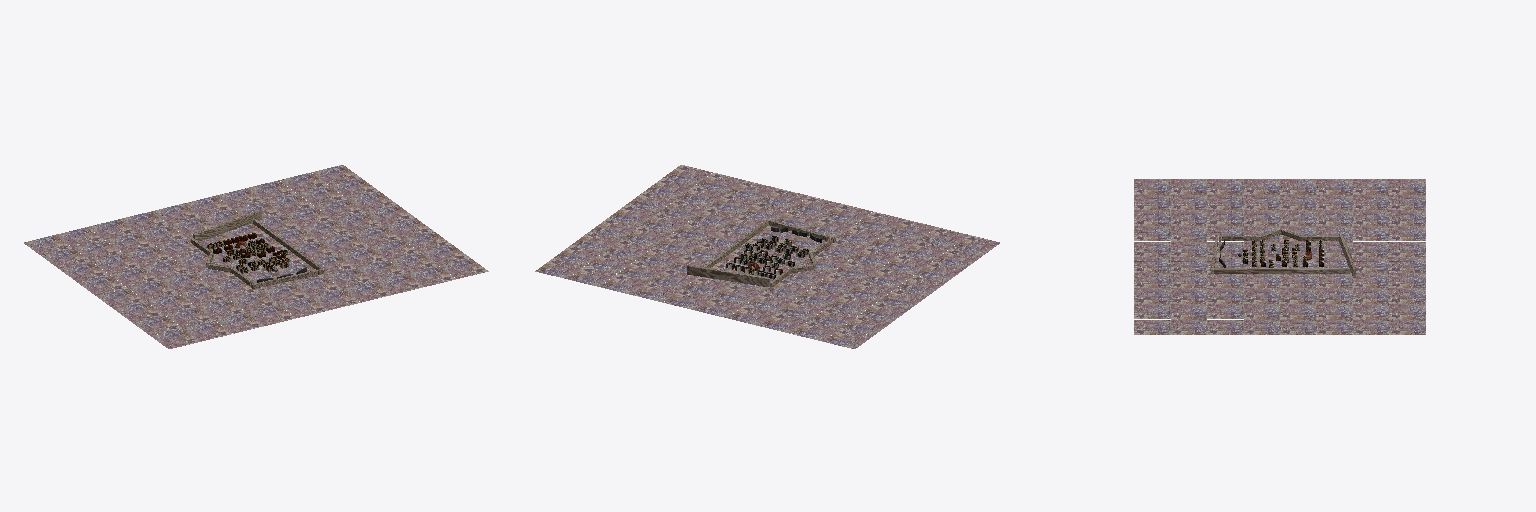
The picture shows the model from 3 angles: view 1: azimuth 30°, elevation 25°; view 2: azimuth 150°, elevation 25°; view 3: azimuth 270°, elevation 25°; orthographic projection.
Visible parts, largest first — view 1: wall26, pPlane54, pPlane28, pPlane35, pPlane37, pPlane38, pPlane39, pPlane43, pPlane48, pPlane74, pPlane79, pPlane80 (+28 smaller); view 2: wall26, pPlane61, pPlane31, pPlane37, pPlane39, pPlane44, pPlane50, pPlane52, pPlane57, pPlane69, pPlane70, pPlane87 (+28 smaller); view 3: wall1, pPlane26, pPlane27, pPlane33, pPlane35, pPlane44, pPlane49, pPlane53, pPlane58, pPlane62, pPlane69, pPlane80 (+28 smaller).
Boxes of the visible parts, box(x1,y1,x2,y2) form: wall26: box(193, 210, 261, 241); pPlane54: box(248, 305, 295, 325); pPlane28: box(265, 194, 314, 214); pPlane35: box(183, 196, 231, 216); pPlane37: box(119, 212, 168, 232); pPlane38: box(147, 294, 195, 314); pPlane39: box(128, 281, 177, 301); pPlane43: box(56, 227, 104, 247); pPlane48: box(160, 273, 209, 293); pPlane74: box(385, 218, 433, 238); pPlane79: box(440, 258, 488, 278); pPlane80: box(24, 235, 71, 255); wall26: box(687, 265, 769, 286); pPlane61: box(759, 188, 807, 208); pPlane31: box(714, 284, 762, 304); pPlane37: box(728, 305, 775, 325); pPlane39: box(864, 267, 912, 287); pPlane44: box(760, 313, 808, 333); pPlane50: box(919, 227, 967, 247); pPlane52: box(869, 233, 917, 253); pPlane57: box(823, 204, 872, 224); pPlane69: box(568, 266, 615, 286); pPlane70: box(535, 258, 583, 278); pPlane87: box(952, 235, 999, 255); wall1: box(1214, 268, 1349, 273); pPlane26: box(1207, 288, 1243, 303); pPlane27: box(1316, 288, 1352, 303); pPlane33: box(1389, 288, 1425, 303); pPlane35: box(1389, 257, 1425, 272); pPlane44: box(1389, 210, 1425, 225); pPlane49: box(1207, 210, 1243, 225); pPlane53: box(1134, 210, 1170, 225); pPlane58: box(1134, 257, 1170, 272); pPlane62: box(1134, 288, 1170, 303); pPlane69: box(1389, 304, 1425, 319); pPlane80: box(1389, 179, 1425, 194).
Size of the model in its own units: 187 by 8.23 by 148.
6 materials, 6 textured.